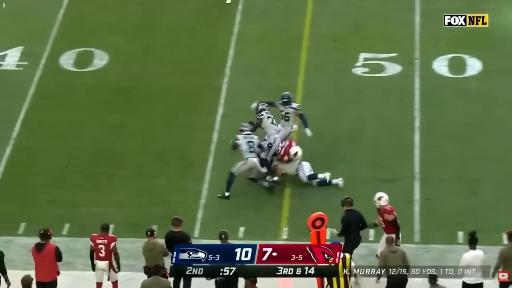Helmet: (374, 192, 389, 207), (290, 146, 302, 160), (281, 92, 292, 106), (257, 103, 269, 114), (240, 124, 251, 134)
Jersey: (90, 234, 117, 261), (276, 102, 301, 126), (236, 135, 260, 158), (378, 206, 397, 234), (257, 112, 279, 135), (274, 159, 301, 175), (277, 141, 296, 162)
Player: (218, 124, 267, 199), (275, 141, 343, 187), (265, 92, 312, 140), (250, 103, 281, 175), (370, 192, 401, 257), (90, 224, 120, 287)
